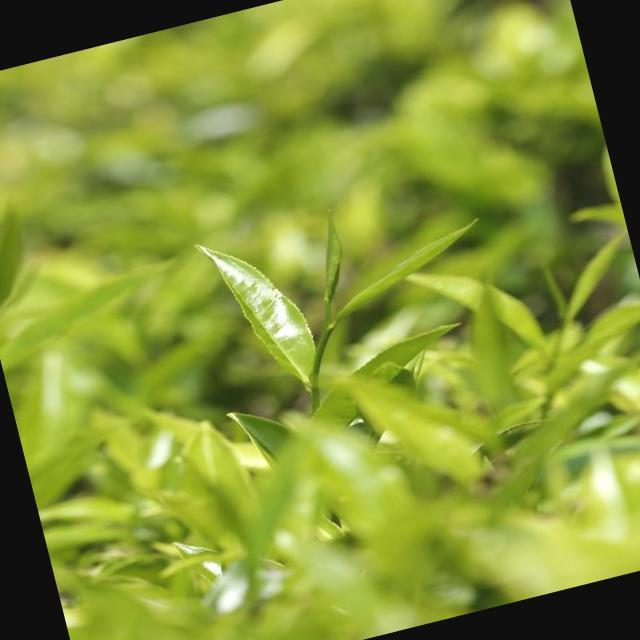Stem: (324, 325, 333, 334)
